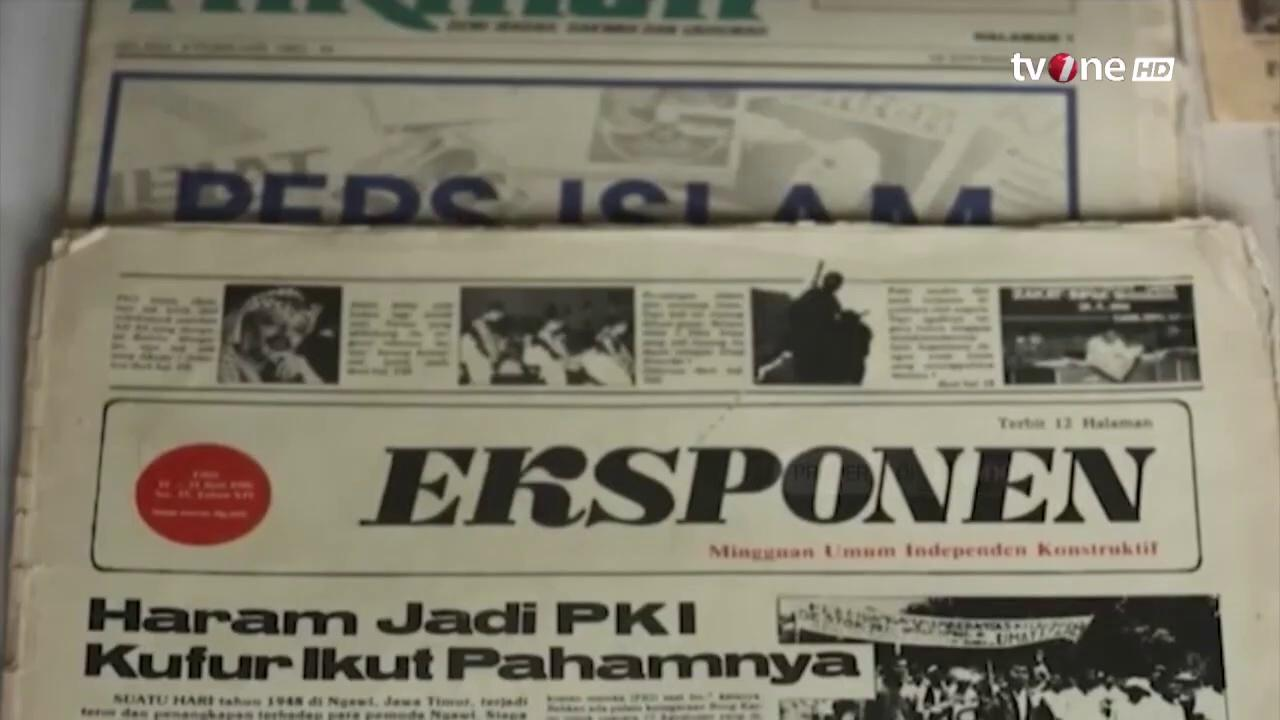Kertas: (0, 219, 1261, 711)
